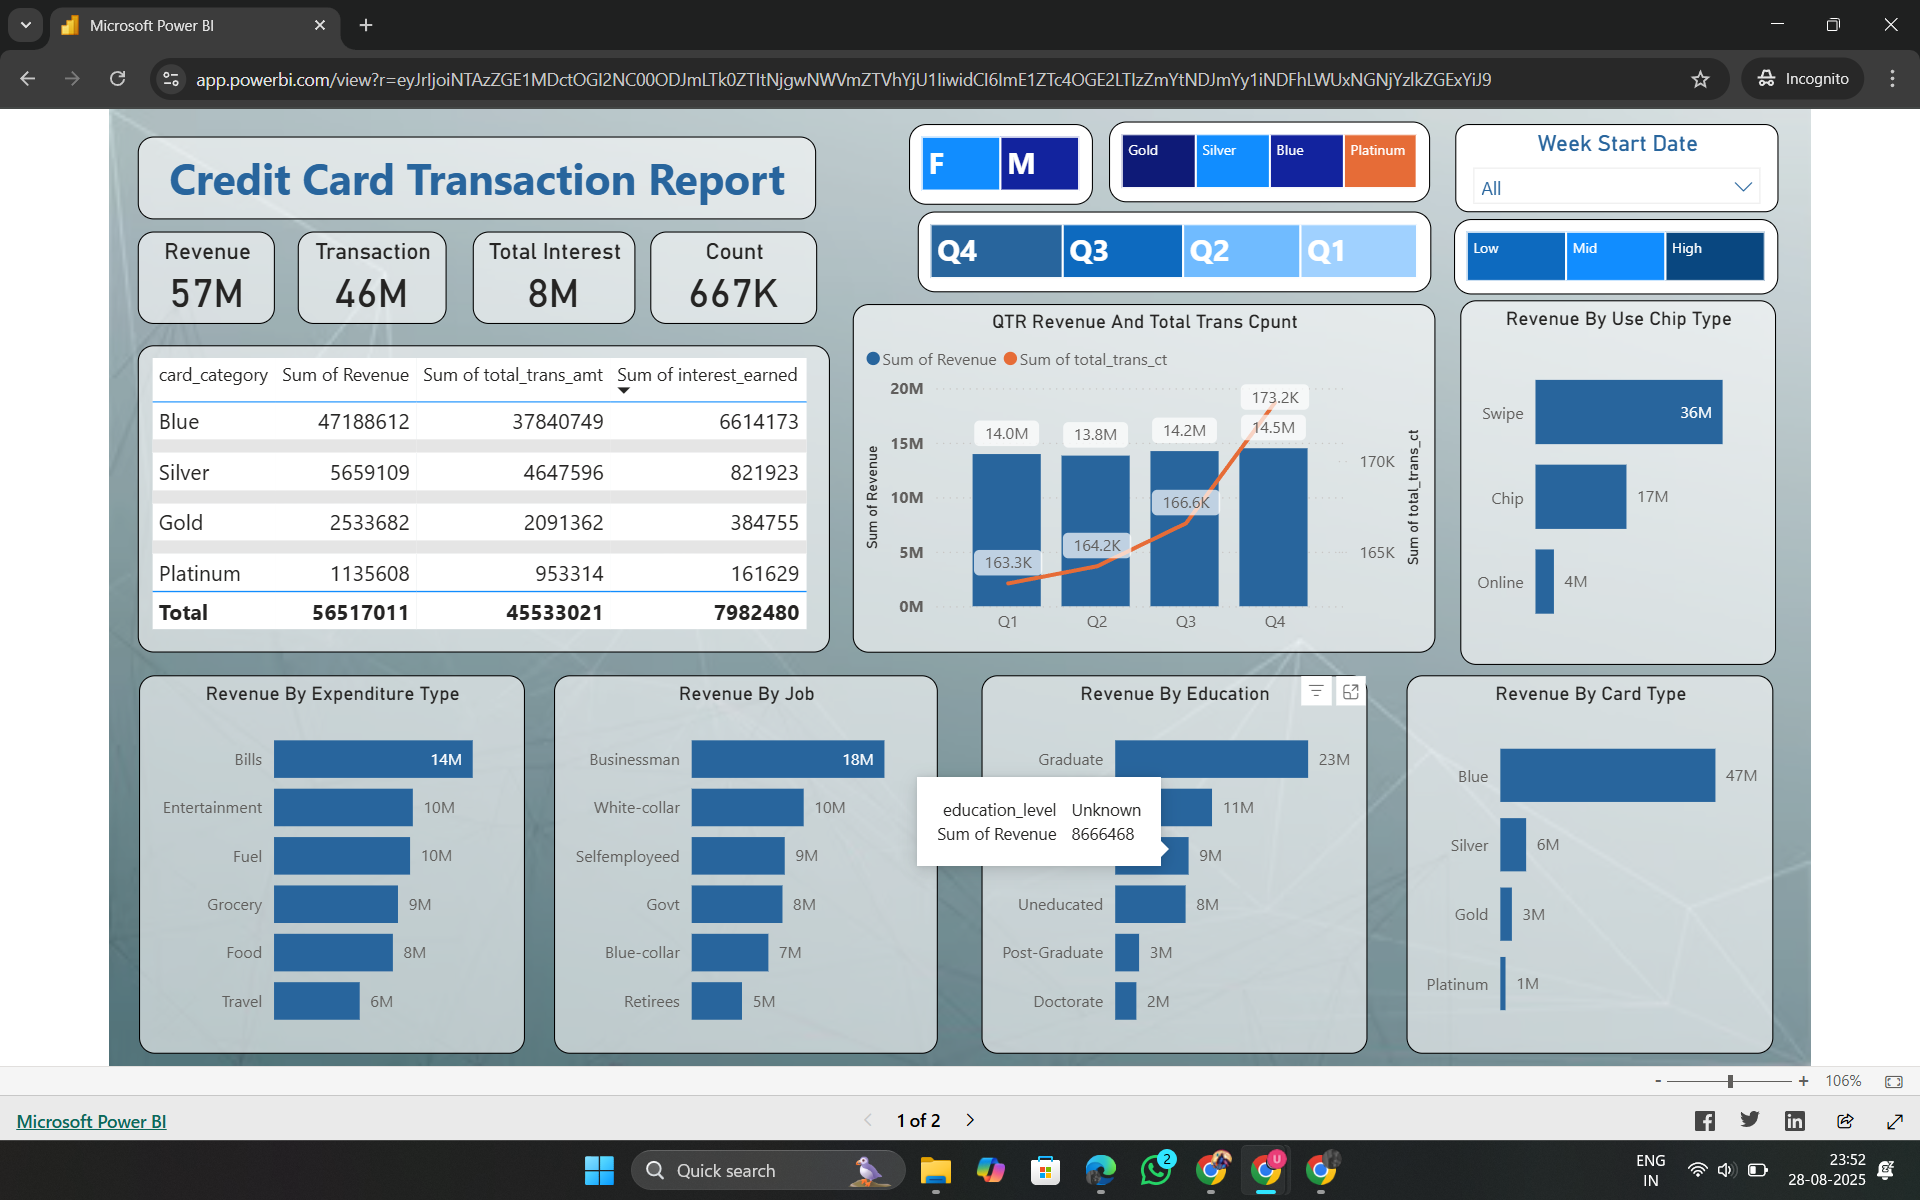

The dashboard page shown, as its layout file describes it:
{"tool":"powerbi","page":{"name":"CC_Transaction","canvas":[1280,720],"ordinal":1},"visuals":[{"type":"textbox","box":[22.1,20.9,510.5,62],"z":0},{"type":"lineStackedColumnComboChart","title":"QTR Revenue And Total Trans Cpunt","fields":{"Y":["Sum(public cc_detail.Revenue)"],"Category":["public cc_detail.qtr"],"Y2":["Sum(public cc_detail.total_trans_ct)"]},"box":[559.3,146.5,438.4,262.8],"z":1000},{"type":"barChart","title":"Revenue By Expenditure Type","fields":{"Y":["Sum(public cc_detail.Revenue)"],"Category":["public cc_detail.exp_type"]},"box":[22.5,426.2,290,285],"z":2000},{"type":"barChart","title":"Revenue By Job","fields":{"Y":["Sum(public cc_detail.Revenue)"],"Category":["public cust_detail.customer_job"]},"box":[335,426.2,288.8,285],"z":3000},{"type":"barChart","title":"Revenue By Education","fields":{"Y":["Sum(public cc_detail.Revenue)"],"Category":["public cust_detail.education_level"]},"box":[656.2,426.2,290,285],"z":4000},{"type":"barChart","title":"Revenue By Card Type","fields":{"Y":["Sum(public cc_detail.Revenue)"],"Category":["public cc_detail.card_category"]},"box":[976.2,426.2,276.2,285],"z":5000},{"type":"barChart","title":"Revenue By Use Chip Type","fields":{"Y":["Sum(public cc_detail.Revenue)"],"Category":["public cc_detail.use_chip"]},"box":[1016.3,144.2,237.2,274.4],"z":6000},{"type":"tableEx","fields":{"Values":["public cc_detail.card_category","Sum(public cc_detail.Revenue)","Sum(public cc_detail.total_trans_amt)","Sum(public cc_detail.interest_earned)"]},"box":[22.1,177.9,520.9,231.4],"z":7000},{"type":"card","title":"Revenue","fields":{"Values":["Sum(public cc_detail.Revenue)"]},"box":[22.1,91.9,103.5,69.8],"z":8000},{"type":"card","title":"Transaction","fields":{"Values":["Sum(public cc_detail.total_trans_amt)"]},"box":[141.9,91.9,111.6,69.8],"z":9000},{"type":"card","title":"Total Interest","fields":{"Values":["Sum(public cc_detail.interest_earned)"]},"box":[273.3,91.9,122.1,69.8],"z":10000},{"type":"card","title":"Count","fields":{"Values":["Sum(public cc_detail.total_trans_ct)"]},"box":[407,91.9,125.6,69.8],"z":11000},{"type":"slicer","title":"Week Start Date","fields":{"Values":["public cc_detail.week_start_date"]},"box":[1012.8,11.6,243,66.3],"z":12000},{"type":"treemap","fields":{"Group":["public cc_detail.qtr"],"Values":["Avg(public cc_detail.client_num)"]},"box":[608.1,76.7,386,60.5],"z":13000},{"type":"treemap","fields":{"Group":["public cust_detail.gender"],"Values":["Avg(public cc_detail.client_num)"]},"box":[602.3,11.6,138.4,60.5],"z":14000},{"type":"treemap","fields":{"Group":["public cust_detail.incomeGroup"],"Values":["Avg(public cc_detail.client_num)"]},"box":[1011.6,82.6,244.2,57],"z":15000},{"type":"treemap","fields":{"Group":["public cc_detail.card_category"],"Values":["Avg(public cc_detail.client_num)"]},"box":[752.3,9.3,241.9,60.5],"z":16000}]}

Visuals, with their boxes on the page's 1280x720 design canvas (x1, y1, x2, y2). These are canvas units, not pixel positions in the 1920x1200 screenshot, which may show the page scaled, cropped or inside an application window:
textbox: detection(22, 21, 533, 83)
"QTR Revenue And Total Trans Cpunt" lineStackedColumnComboChart: detection(559, 146, 998, 409)
"Revenue By Expenditure Type" barChart: detection(22, 426, 312, 711)
"Revenue By Job" barChart: detection(335, 426, 624, 711)
"Revenue By Education" barChart: detection(656, 426, 946, 711)
"Revenue By Card Type" barChart: detection(976, 426, 1252, 711)
"Revenue By Use Chip Type" barChart: detection(1016, 144, 1254, 419)
tableEx - public cc_detail.card_category x Sum(public cc_detail.Revenue): detection(22, 178, 543, 409)
"Revenue" card: detection(22, 92, 126, 162)
"Transaction" card: detection(142, 92, 254, 162)
"Total Interest" card: detection(273, 92, 395, 162)
"Count" card: detection(407, 92, 533, 162)
"Week Start Date" slicer: detection(1013, 12, 1256, 78)
treemap - public cc_detail.qtr x Avg(public cc_detail.client_num): detection(608, 77, 994, 137)
treemap - public cust_detail.gender x Avg(public cc_detail.client_num): detection(602, 12, 741, 72)
treemap - public cust_detail.incomeGroup x Avg(public cc_detail.client_num): detection(1012, 83, 1256, 140)
treemap - public cc_detail.card_category x Avg(public cc_detail.client_num): detection(752, 9, 994, 70)
